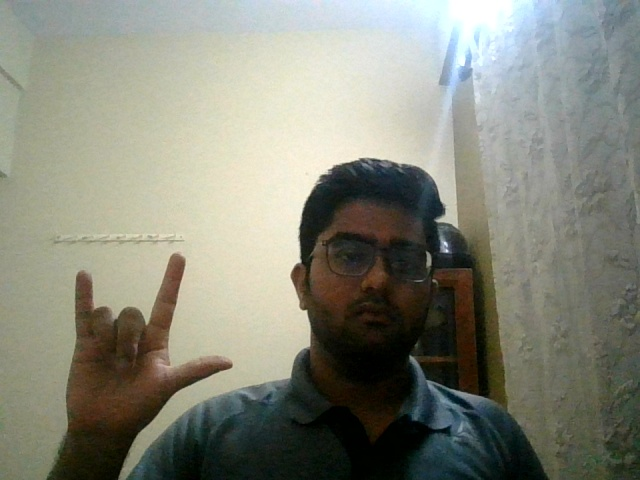I Love You: (49, 248, 252, 446)
